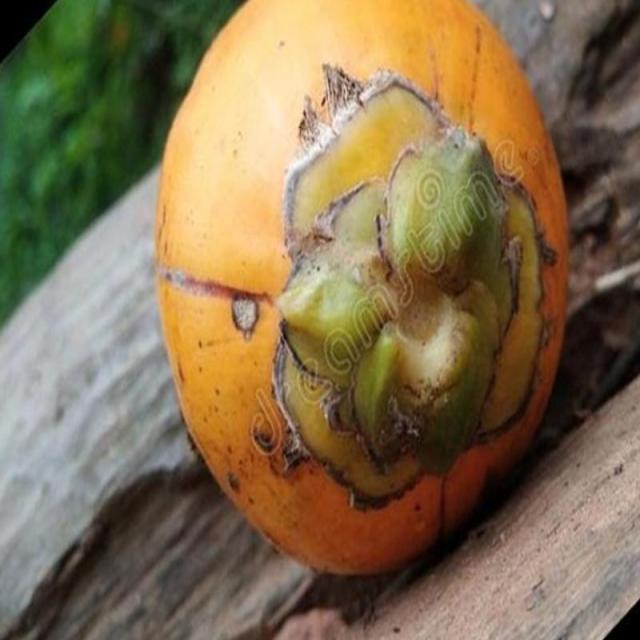good: (153, 0, 571, 582)
